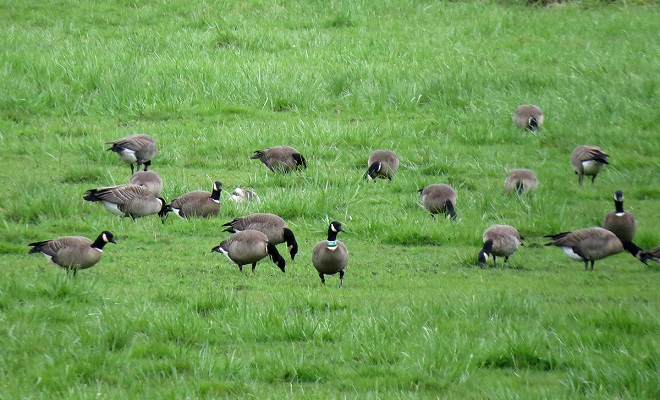goose: (546, 224, 657, 276), (24, 230, 117, 274), (223, 212, 302, 260), (208, 230, 288, 275), (84, 184, 167, 225), (308, 221, 348, 290), (166, 178, 227, 221), (473, 224, 523, 268), (106, 134, 159, 172), (249, 145, 309, 178), (602, 189, 637, 245), (416, 181, 459, 221), (569, 143, 608, 183), (362, 147, 402, 182), (508, 101, 546, 133), (501, 166, 541, 196), (127, 168, 163, 196)
